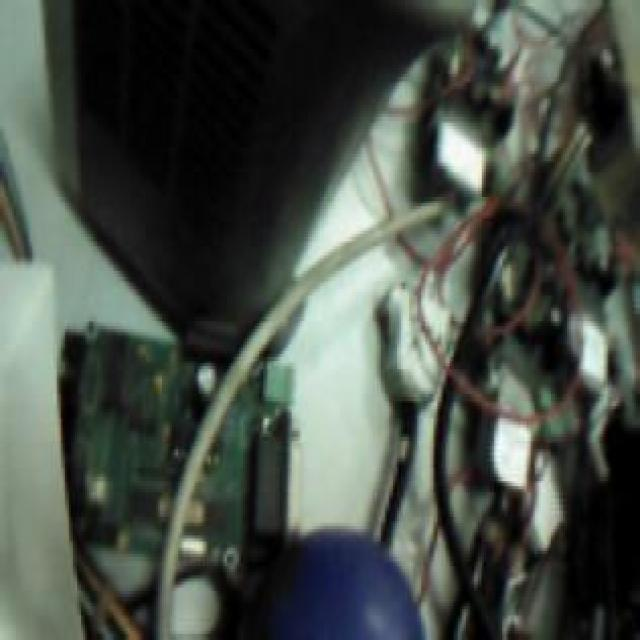BallPurple: (252, 528, 423, 640)
